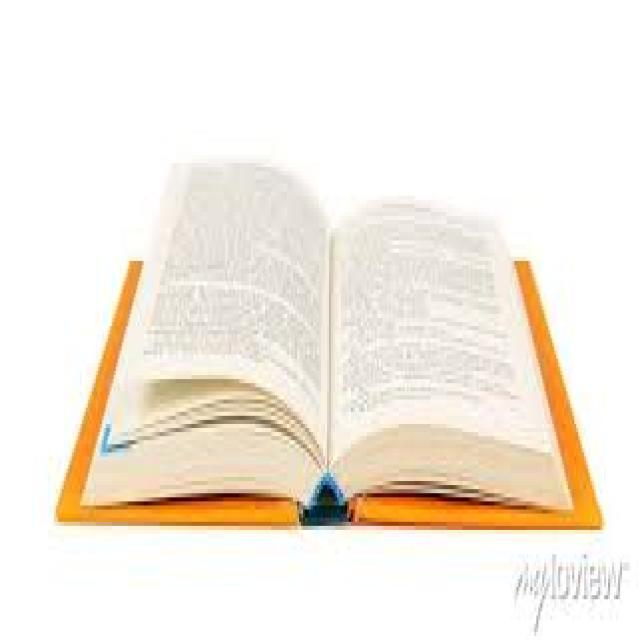book: (50, 99, 610, 556)
